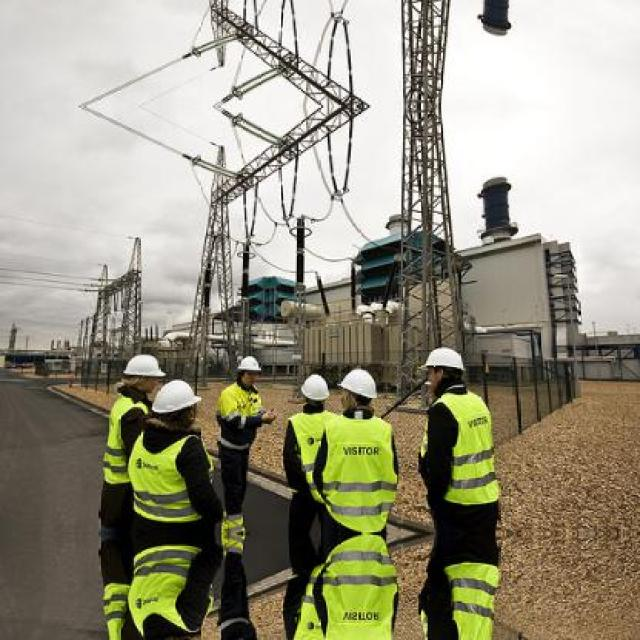helmet: (148, 378, 200, 419), (418, 344, 464, 389), (338, 364, 376, 412), (120, 352, 163, 390), (298, 370, 327, 406), (238, 353, 260, 386)
